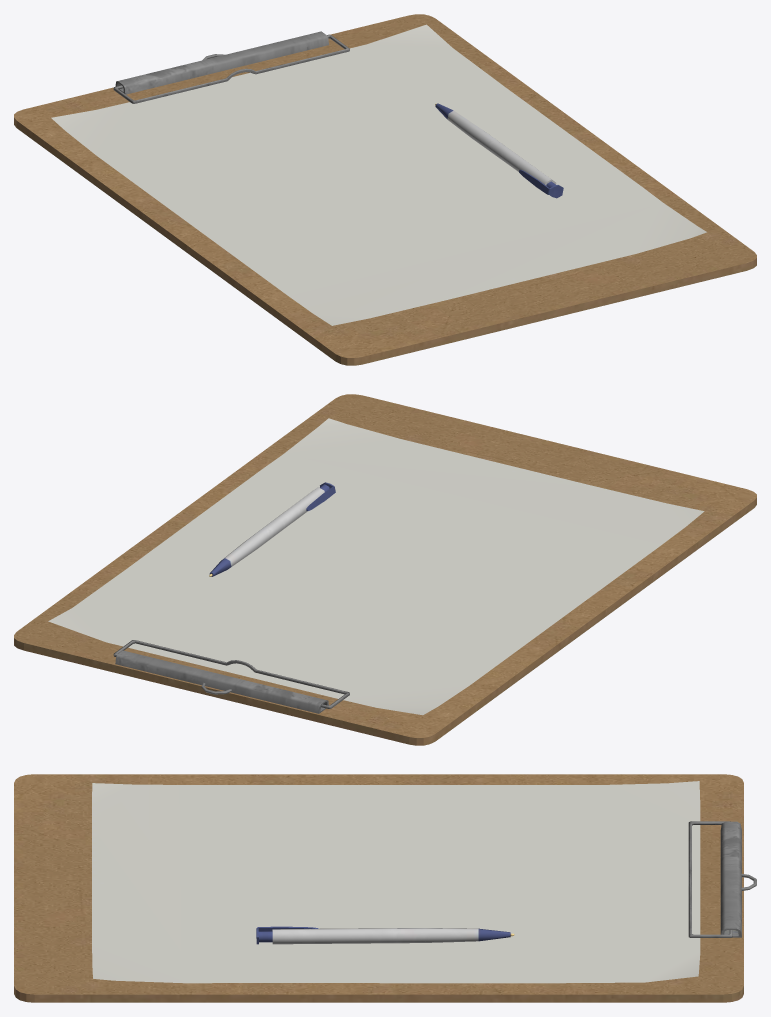
Rendered from clipboard_with_pen_and_paper_low-poly.glb.
3 views of the same model, one above another, from view 1: azimuth 30°, elevation 25°; view 2: azimuth 150°, elevation 25°; view 3: azimuth 270°, elevation 25° (orthographic). The views are drawn at different scales.
Visible parts, largest first — view 1: paper, clipboard, pen; view 2: paper, clipboard, pen; view 3: paper, clipboard, pen.
Part boxes in pixels (x1,y1,x2,y2): paper: [51, 24, 706, 325]; clipboard: [14, 14, 756, 365]; pen: [435, 103, 563, 198]; paper: [48, 418, 704, 715]; clipboard: [14, 394, 756, 745]; pen: [209, 482, 335, 576]; paper: [92, 781, 700, 983]; clipboard: [14, 774, 756, 1002]; pen: [256, 926, 514, 944].
Bounding box in the file's own units: 0.24 × 0.0123 × 0.3419.
1 material, 1 textured.
